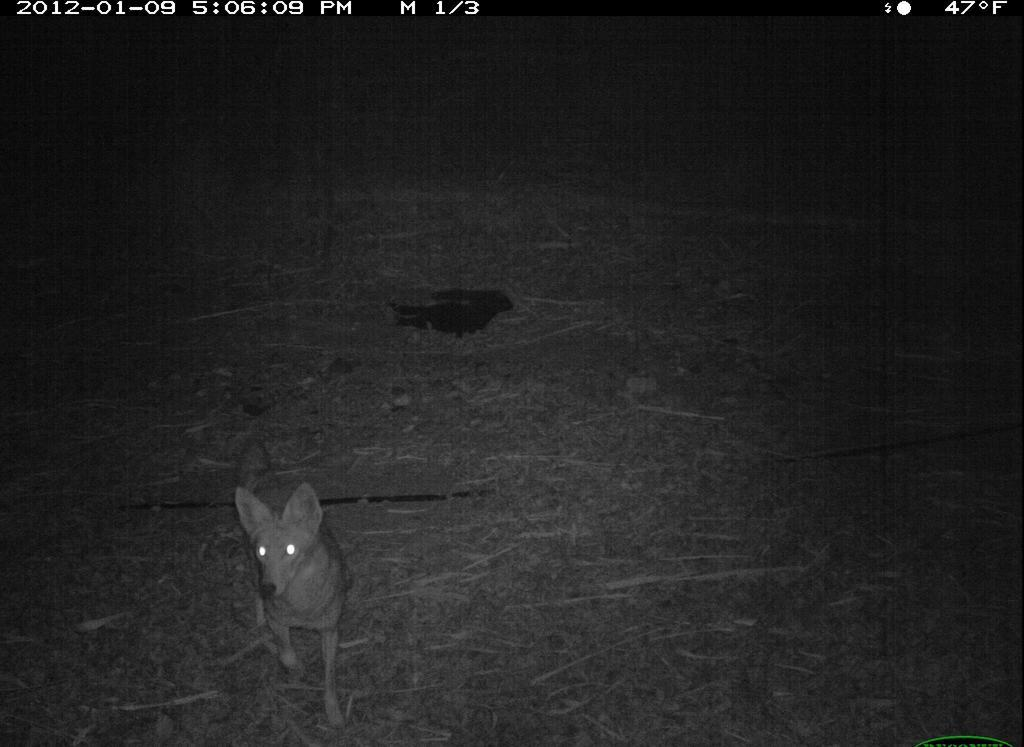coyote: (231, 481, 358, 735)
